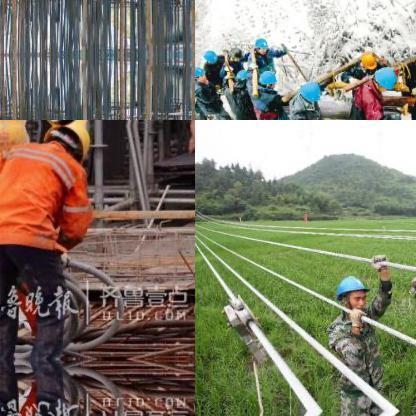Helmet: (39, 125, 93, 159), (333, 272, 367, 310), (369, 66, 397, 92), (0, 124, 21, 153), (298, 78, 320, 102), (358, 47, 380, 69), (258, 68, 276, 90), (253, 36, 271, 56), (200, 47, 218, 61), (233, 67, 247, 85), (226, 46, 244, 60), (195, 63, 207, 82)
